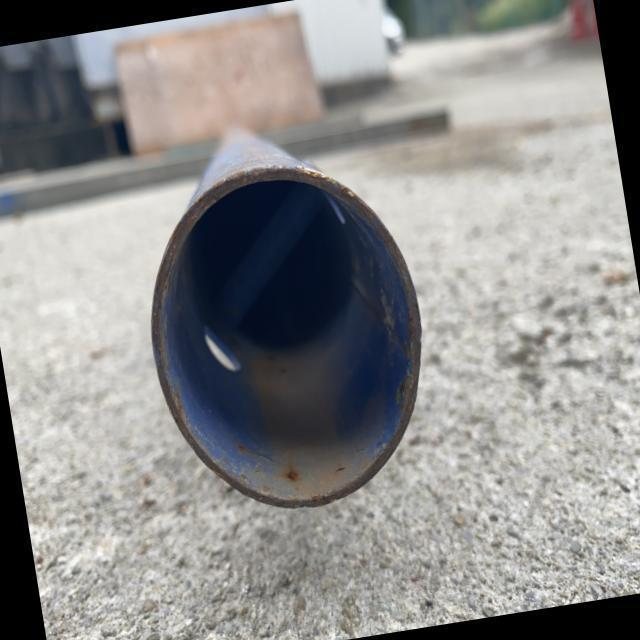pipe: (149, 167, 423, 511)
